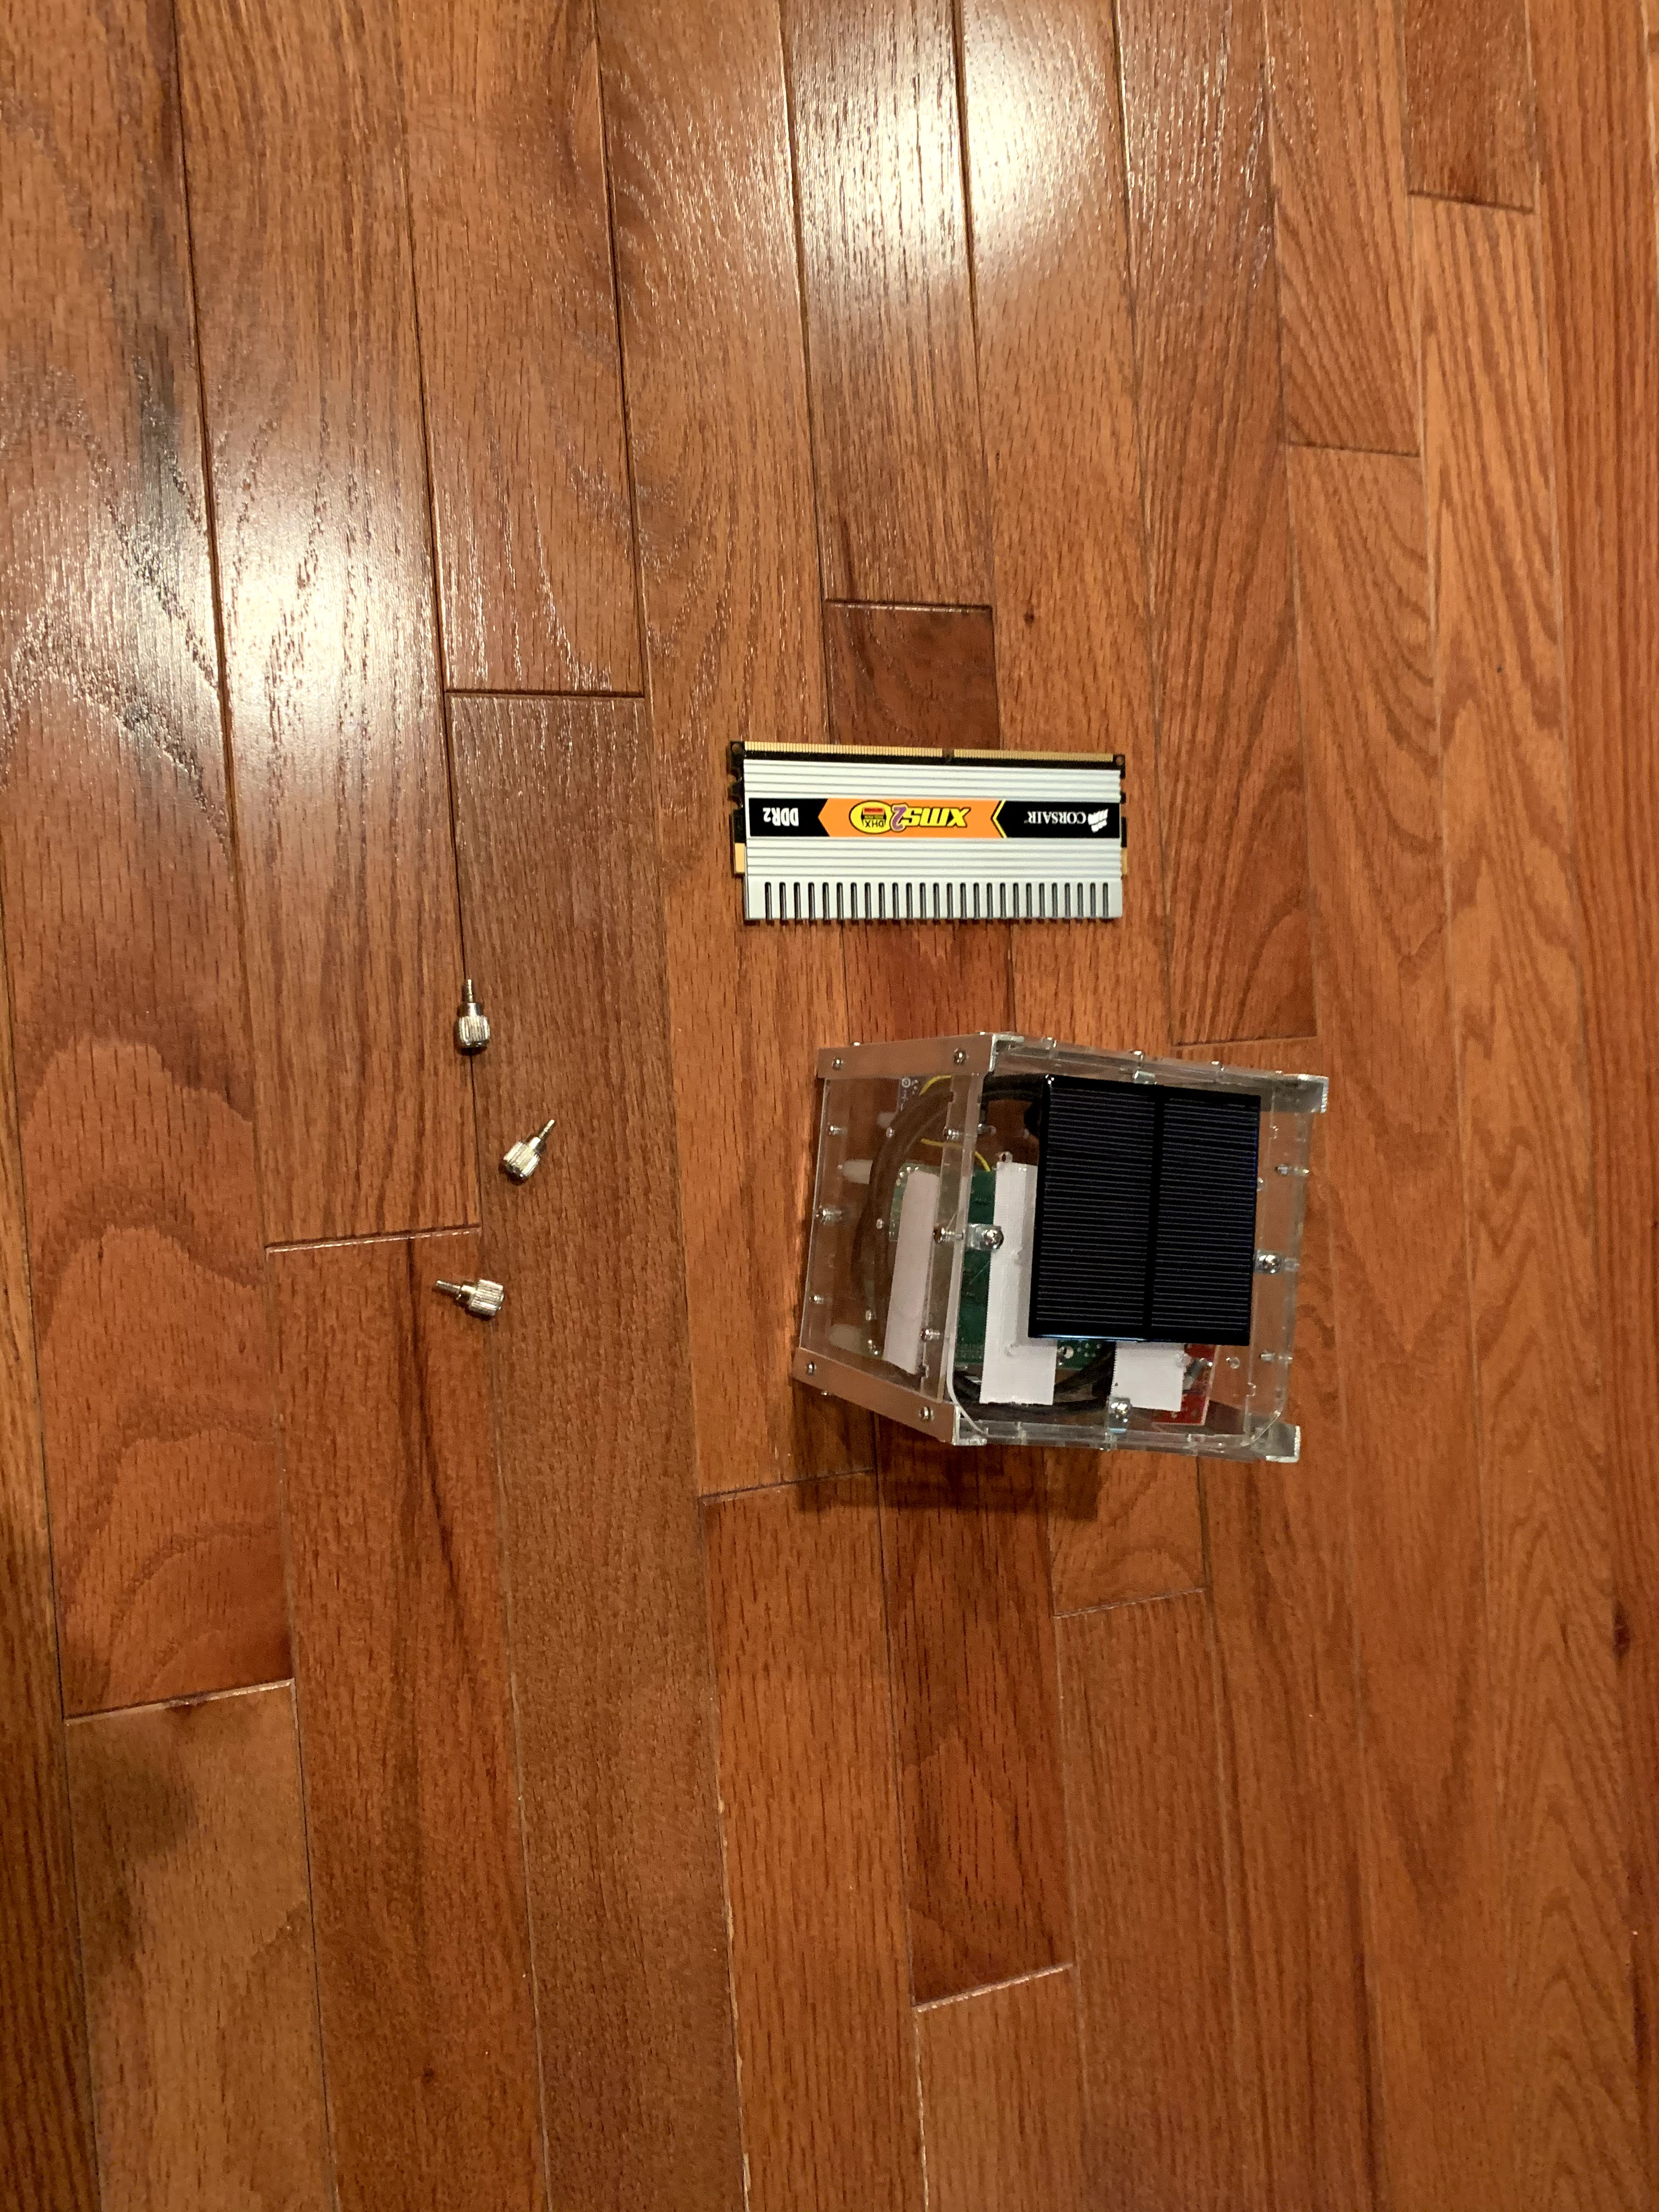Space-debris-cubesat: (795, 1022, 1351, 1514)
Space-debris-medium: (709, 723, 1168, 946)
Space-debris-small: (420, 1244, 530, 1346), (429, 972, 518, 1073), (484, 1106, 575, 1202)
